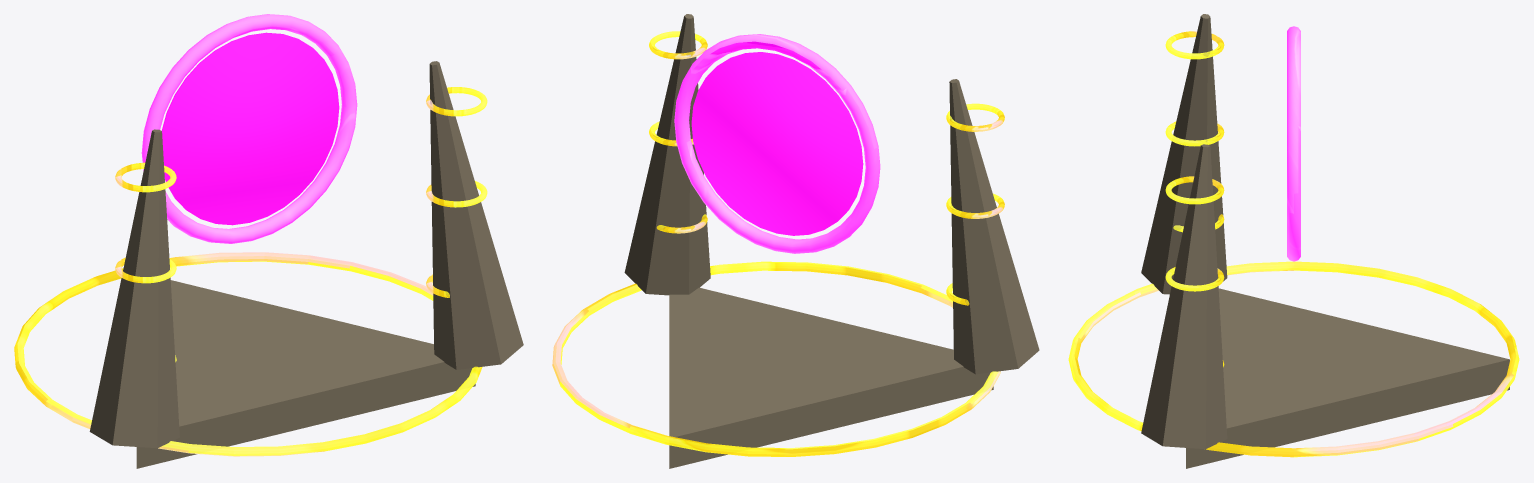
The model's file is solar_manifestation_gateway.glb.
The picture shows the model from 3 angles, left to right: view 1: azimuth 30°, elevation 25°; view 2: azimuth 150°, elevation 25°; view 3: azimuth 270°, elevation 25°; orthographic projection. The views are drawn at different scales.
Parts seen in each view (by area): view 1: SolarManifestationGateway; view 2: SolarManifestationGateway; view 3: SolarManifestationGateway.
Part boxes in pixels (x1=…): SolarManifestationGateway: x1=14, y1=14, x2=523, y2=468; SolarManifestationGateway: x1=552, y1=14, x2=1039, y2=468; SolarManifestationGateway: x1=1068, y1=14, x2=1519, y2=468.
Bounding box in the file's own units: 3.79 × 3.24 × 3.76.
3 materials, 3 textured.
